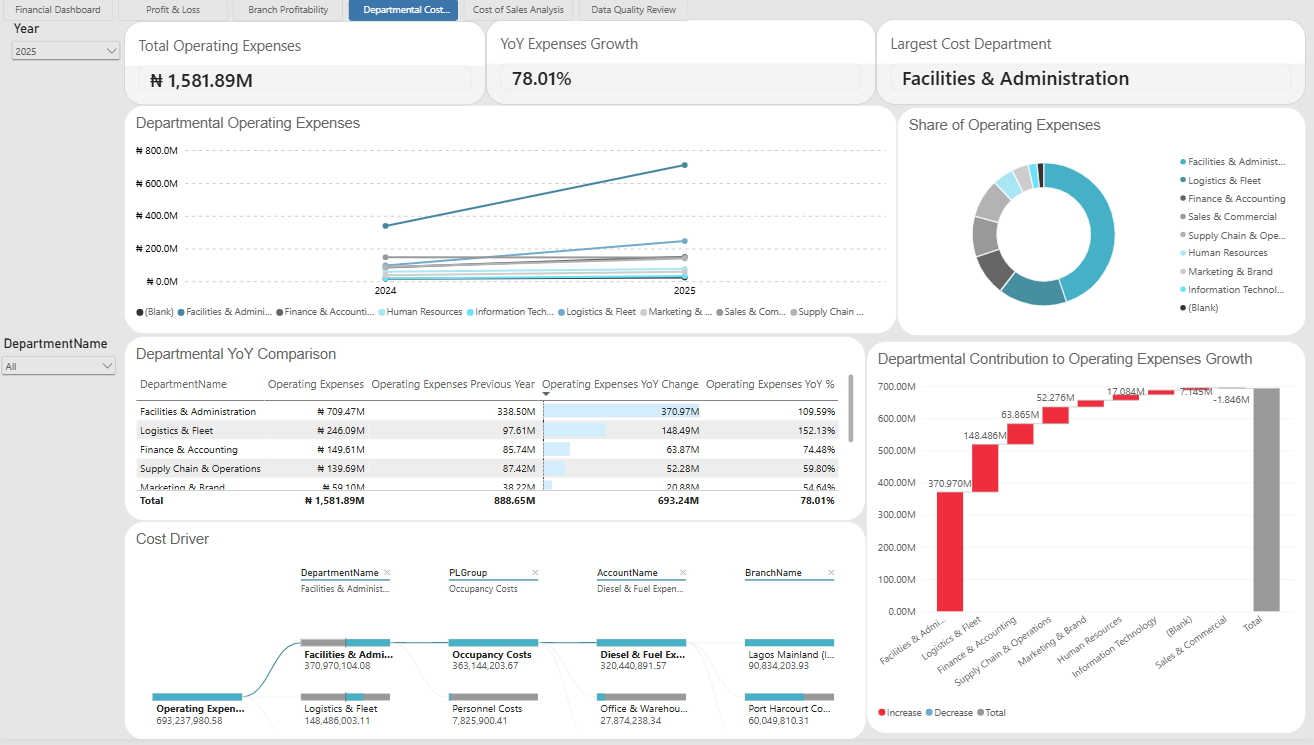

What the dashboard file says about the page in this screenshot:
{"tool":"powerbi","page":{"name":"Departmental Cost Analysis","canvas":[1920,1080],"ordinal":3},"visuals":[{"type":"lineChart","title":"Departmental Operating Expenses","fields":{"Category":["DateTable.Year"],"Series":["Departments.DepartmentName"],"Y":["FinancialTransactions.Operating Expenses"]},"box":[183.8,154.7,1127.6,333.6],"z":0},{"type":"slicer","fields":{"Values":["DateTable.Year"]},"box":[14.6,32.1,169.2,459.6],"z":1},{"type":"slicer","fields":{"Values":["Departments.DepartmentName"]},"box":[0,491.4,177.4,589],"z":2},{"type":"tableEx","title":"Departmental YoY Comparison","fields":{"Values":["Departments.DepartmentName","FinancialTransactions.Operating Expenses","FinancialTransactions.Operating Expenses Previous Year","FinancialTransactions.Operating Expenses YoY Change","FinancialTransactions.Operating Expenses YoY %"]},"box":[183.9,491.4,1082,270.1],"z":3},{"type":"decompositionTreeVisual","title":"Cost Driver","fields":{"Analyze":["FinancialTransactions.Operating Expenses YoY Change"],"ExplainBy":["Departments.DepartmentName","ChartofAccounts.PLGroup","ChartofAccounts.AccountName","Branches.BranchName"]},"box":[183.8,761.6,1082.6,319.5],"z":4},{"type":"donutChart","title":"Share of Operating Expenses","fields":{"Category":["Departments.DepartmentName"],"Y":["FinancialTransactions.Operating Expenses"]},"box":[1311.5,157.8,597.2,333.6],"z":5},{"type":"cardVisual","title":"Total Operating Expenses","fields":{"Data":["FinancialTransactions.Operating Expenses"]},"box":[183.8,32.1,528.1,122.6],"z":6},{"type":"cardVisual","title":"YoY Expenses Growth","fields":{"Data":["FinancialTransactions.Operating Expenses YoY %"]},"box":[712,29.2,569,125.5],"z":7},{"type":"cardVisual","title":"Largest Cost Department","fields":{"Data":["Departments.Largest Cost Department"]},"box":[1281,29.2,627.4,125.5],"z":8},{"type":"waterfallChart","title":"Departmental Contribution to Operating Expenses Growth","fields":{"Category":["Departments.DepartmentName"],"Y":["FinancialTransactions.Operating Expenses YoY Change"]},"box":[1266.4,499,641.9,573.4],"z":9},{"type":"pageNavigator","box":[7.3,0,1000.2,32.1],"z":10}]}

Visuals, with their boxes on the page's 1920x1080 design canvas (x1, y1, x2, y2). These are canvas units, not pixel positions in the 1314x745 screenshot, which may show the page scaled, cropped or inside an application window:
"Departmental Operating Expenses" lineChart: (184, 155, 1311, 488)
slicer - DateTable.Year: (15, 32, 184, 492)
slicer - Departments.DepartmentName: (0, 491, 177, 1080)
"Departmental YoY Comparison" tableEx: (184, 491, 1266, 762)
"Cost Driver" decompositionTreeVisual: (184, 762, 1266, 1081)
"Share of Operating Expenses" donutChart: (1312, 158, 1909, 491)
"Total Operating Expenses" cardVisual: (184, 32, 712, 155)
"YoY Expenses Growth" cardVisual: (712, 29, 1281, 155)
"Largest Cost Department" cardVisual: (1281, 29, 1908, 155)
"Departmental Contribution to Operating Expenses Growth" waterfallChart: (1266, 499, 1908, 1072)
pageNavigator: (7, 0, 1008, 32)
